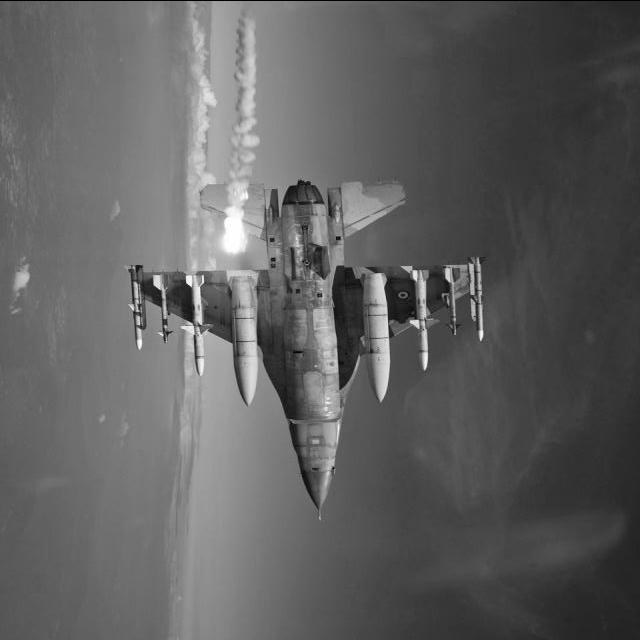Missile: (225, 270, 268, 406), (180, 272, 217, 383), (365, 269, 392, 406), (406, 268, 436, 377), (472, 254, 494, 342), (126, 263, 146, 356)
